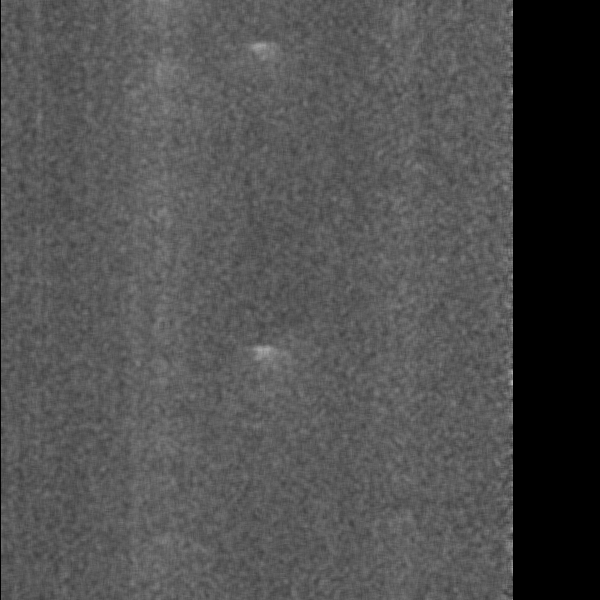spark: (234, 335, 285, 386), (148, 52, 171, 98), (244, 38, 277, 68)
